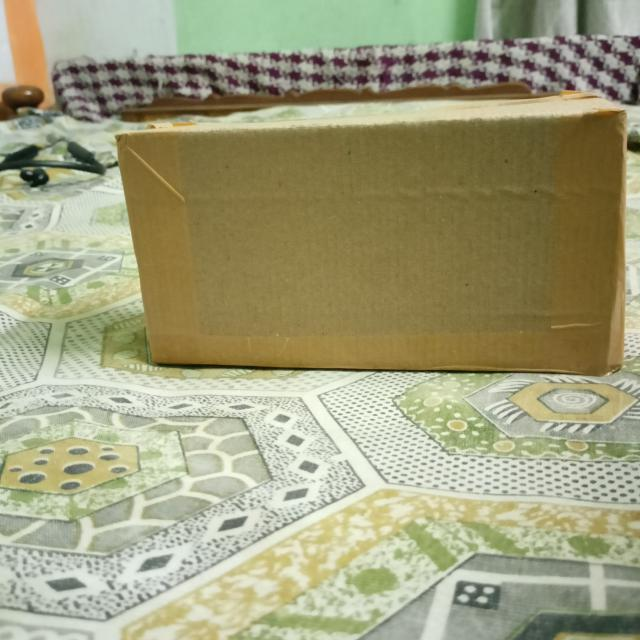box: (114, 113, 629, 373)
